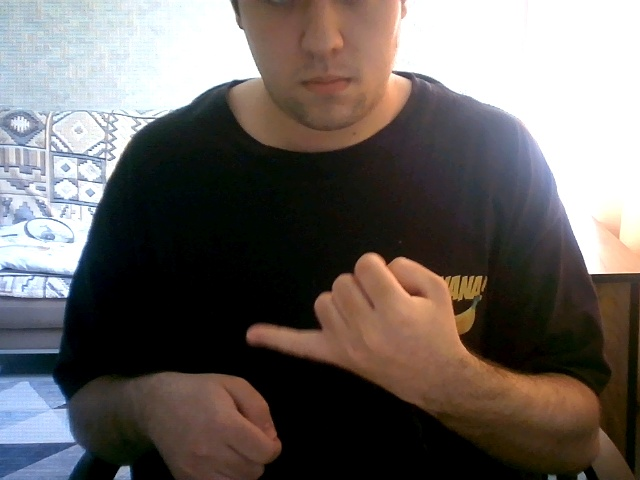bad: (238, 232, 484, 392)
